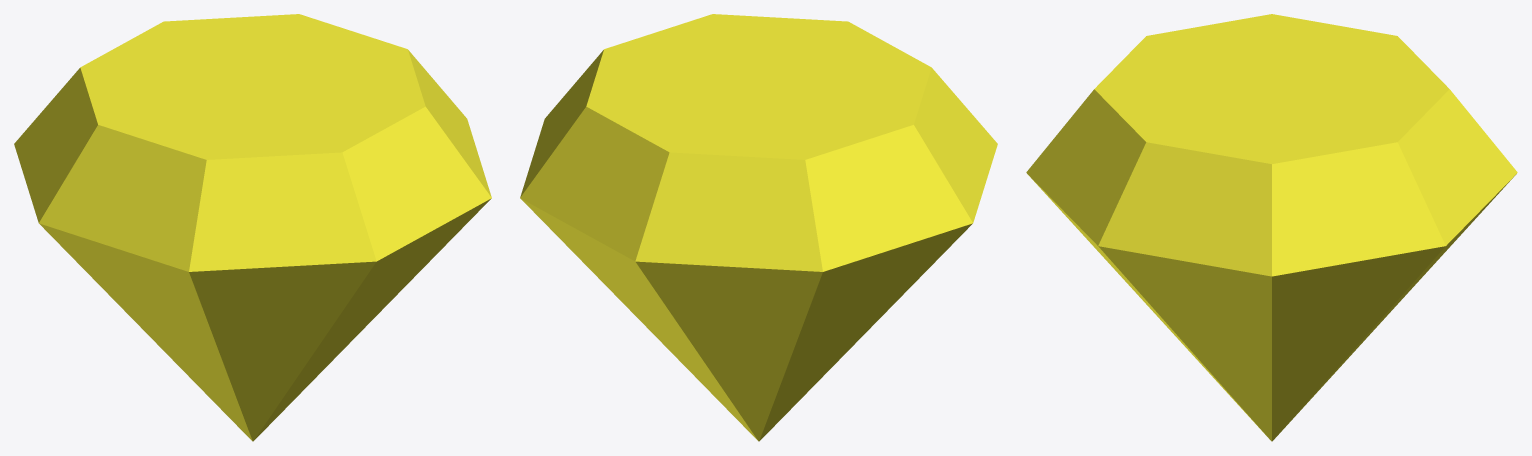
The model's file is Diamond_Yellow.fbx.
3 renders of one model, left to right at view 1: azimuth 30°, elevation 25°; view 2: azimuth 150°, elevation 25°; view 3: azimuth 270°, elevation 25°, orthographic.
Visible parts, largest first — view 1: Diamond Yellow; view 2: Diamond Yellow; view 3: Diamond Yellow.
Part boxes in pixels (x1=…): Diamond Yellow: x1=14, y1=14, x2=491, y2=441; Diamond Yellow: x1=520, y1=14, x2=997, y2=441; Diamond Yellow: x1=1026, y1=14, x2=1517, y2=441.
Size of the model in its own units: 59.1 by 46.79 by 59.1.
Materials: 1 (1 with a texture image).
